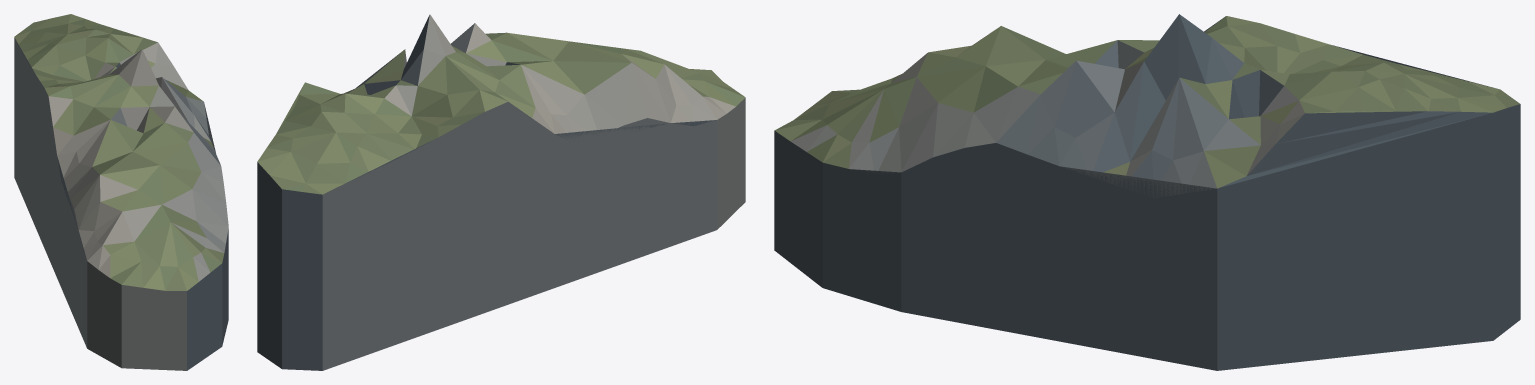
File: cliff_central_wall.glb
3 renders of one model, left to right at view 1: azimuth 30°, elevation 25°; view 2: azimuth 150°, elevation 25°; view 3: azimuth 270°, elevation 25°, orthographic. The views are drawn at different scales.
Visible parts, largest first — view 1: cliff_central_wall; view 2: cliff_central_wall; view 3: cliff_central_wall.
Part boxes in pixels (bbox=[...]): cliff_central_wall: bbox=[14, 14, 228, 370]; cliff_central_wall: bbox=[257, 14, 745, 370]; cliff_central_wall: bbox=[774, 14, 1520, 370].
Bounding box in the file's own units: 90.01 × 80 × 179.
